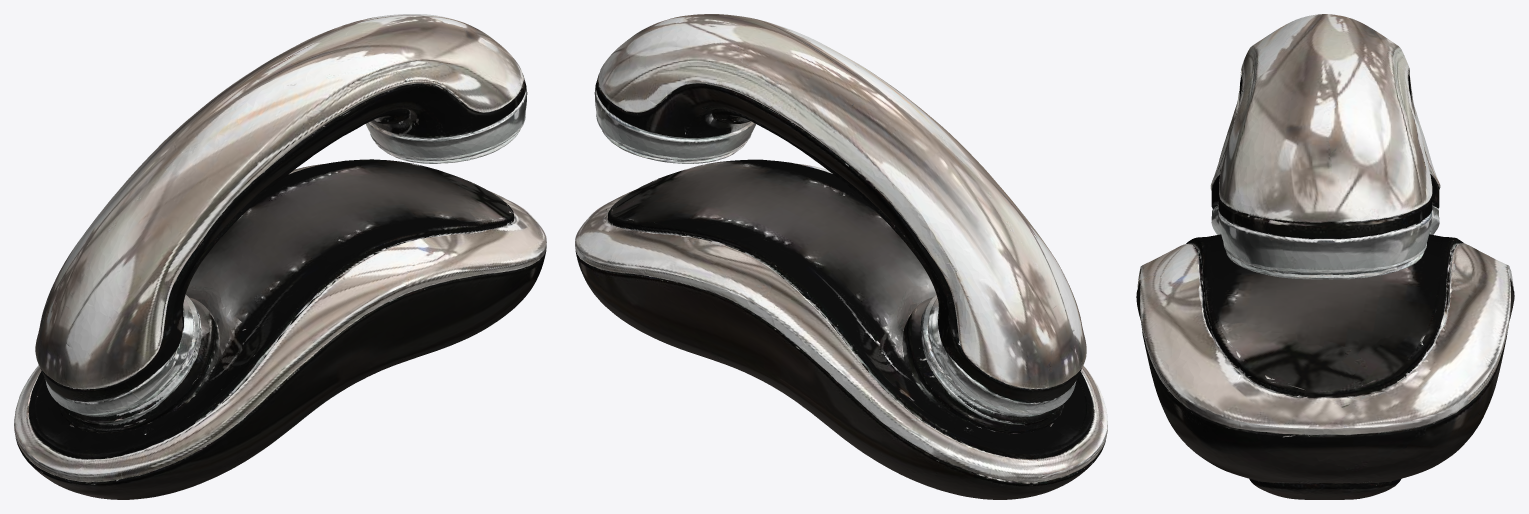
The model's file is Modern Faucet.glb.
3 views of the same model, side by side, from view 1: azimuth 30°, elevation 25°; view 2: azimuth 150°, elevation 25°; view 3: azimuth 270°, elevation 25° (orthographic). The views are drawn at different scales.
Visible parts, largest first — view 1: world; view 2: world; view 3: world.
Part boxes in pixels (<box>): world: <box>14,14,546,499</box>; world: <box>575,14,1107,499</box>; world: <box>1136,14,1514,499</box>.
Bounding box in the file's own units: 1.99 × 1.54 × 1.03.
1 material, 1 textured.
